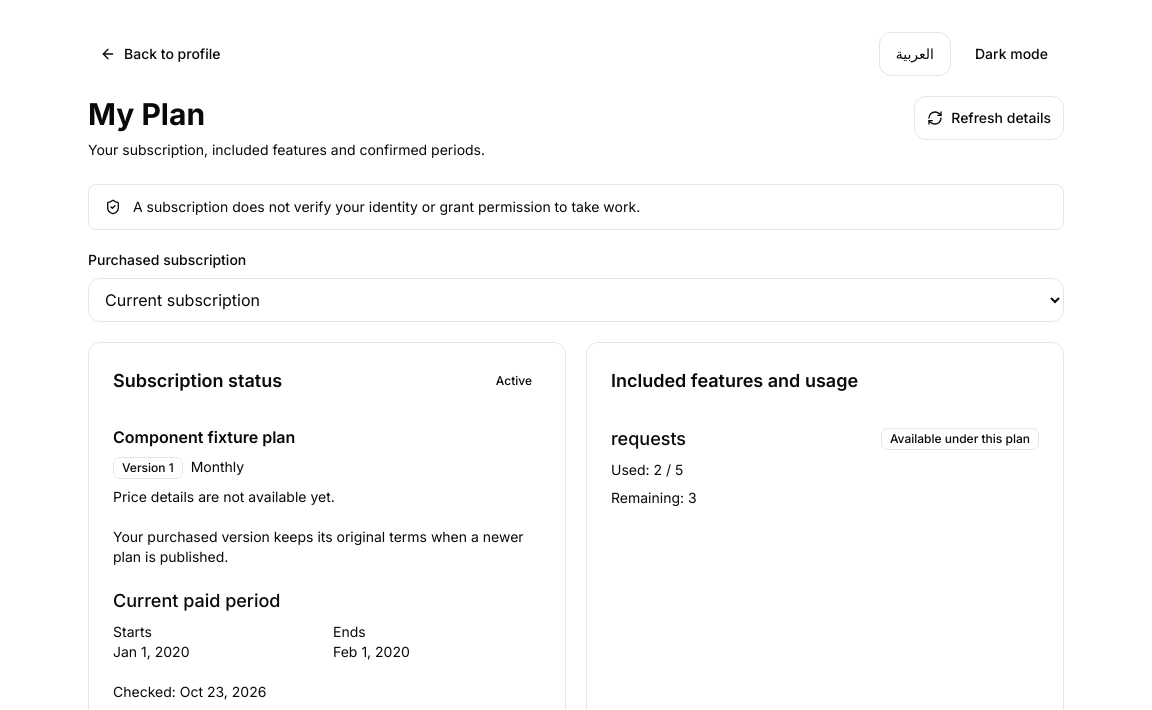
Test: server-authoritative My Plan › labels cached details stale on network failure and recovers via refresh
Expected: the text "Active" is shown, [496,373,532,388]
Click the button with test id "my-plan-refresh": point(989, 118) [914,96,1064,140]
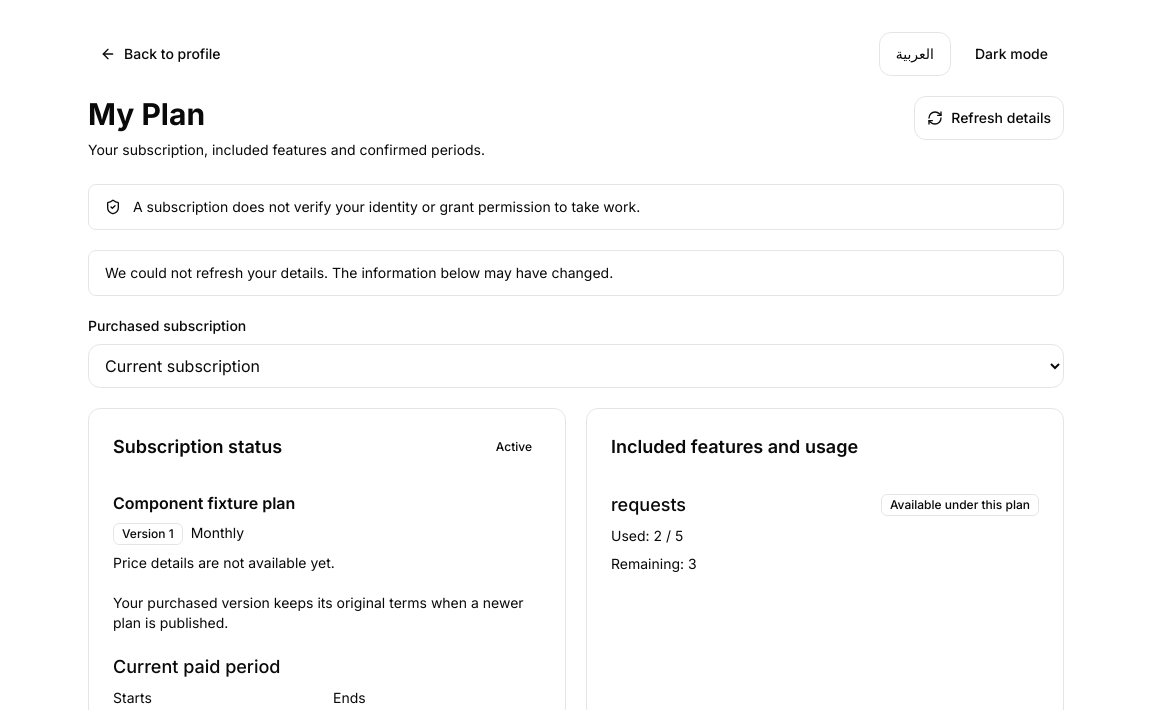
Expected: the text "Component fixture plan" is shown, [113,493,295,513]
Expected: the text "We could not refresh your details. The information below may have changed." is shown, [105,264,613,281]
Click the button with test id "my-plan-refresh": point(989, 118) [914,96,1064,140]
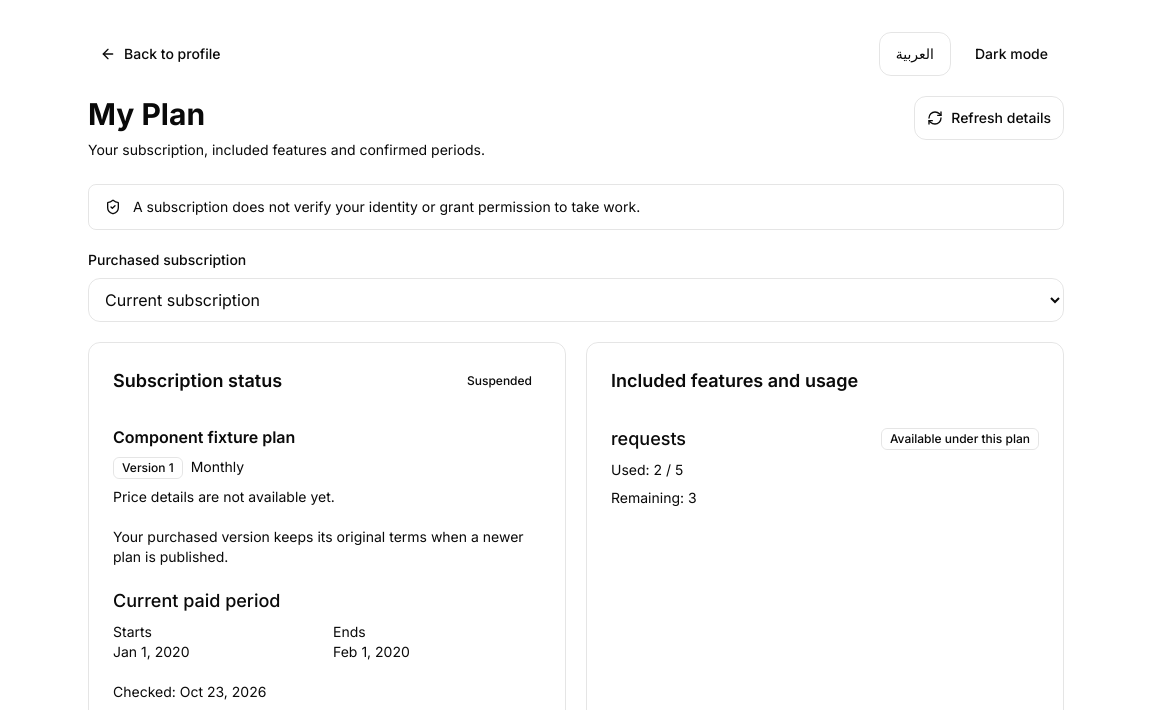
Expected: the text with test id "my-plan-status" reads "Suspended", [467,373,532,388]
Expected: the text "We could not refresh your details. The information below may have changed." is gone
